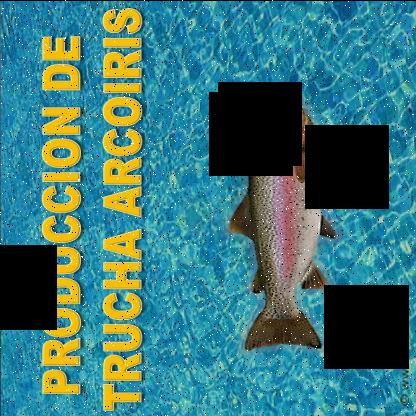fish: (229, 90, 341, 350)
